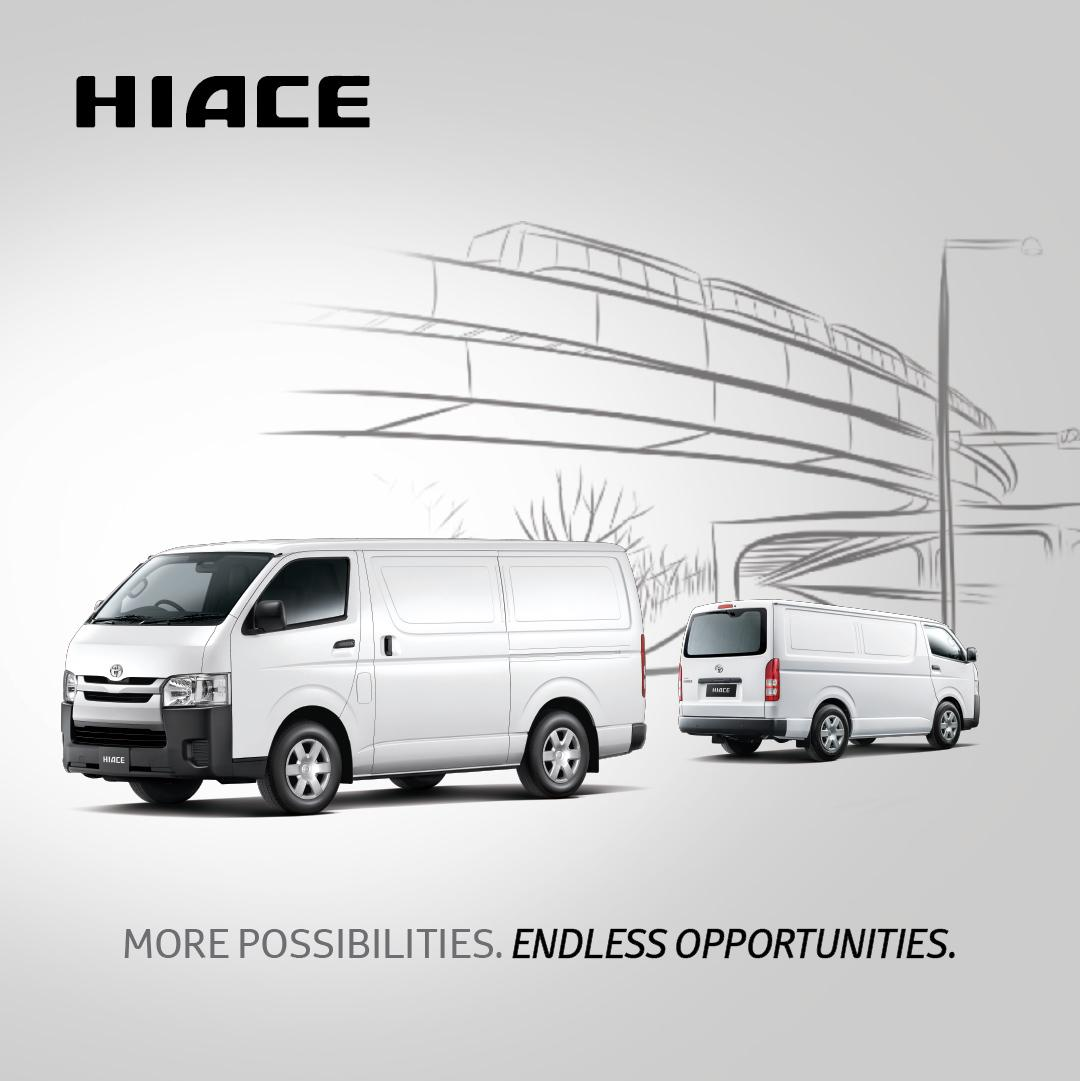van: (59, 536, 646, 818), (675, 597, 981, 762)
